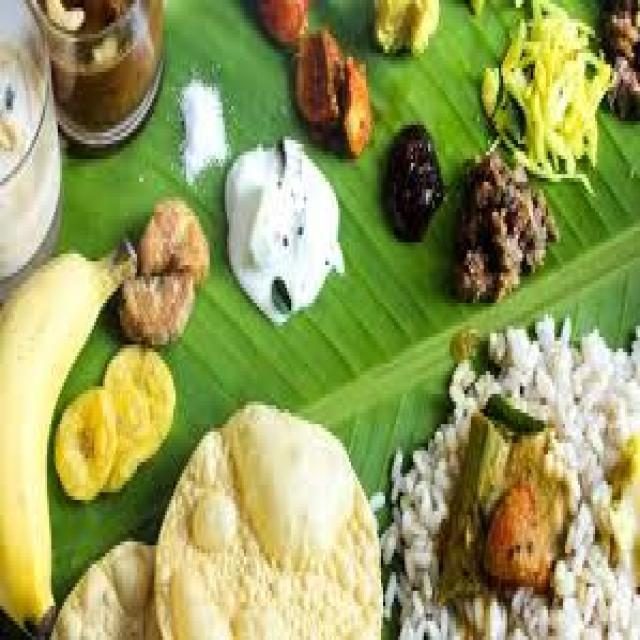papad: (154, 396, 386, 640), (4, 280, 93, 591)
rice: (228, 140, 347, 325)
sweet: (0, 23, 66, 273)
veg-fry: (387, 386, 587, 627), (447, 149, 545, 309)
